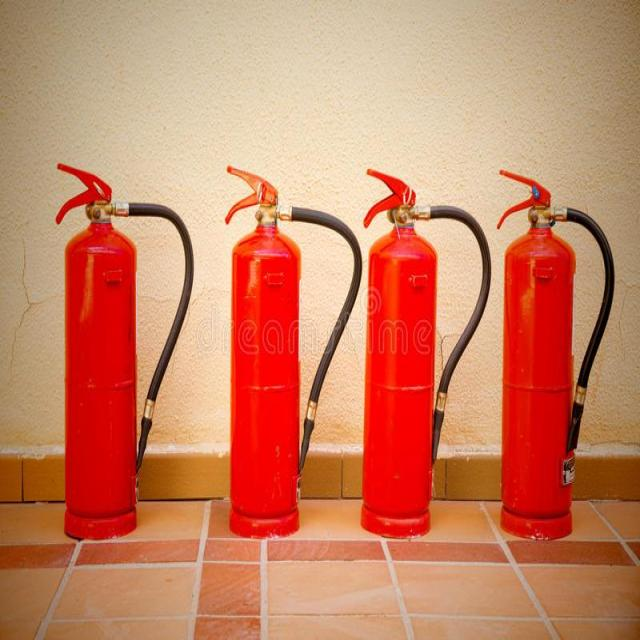fire_extinguisher: (52, 158, 198, 542), (220, 159, 364, 542), (358, 164, 491, 542), (491, 164, 619, 547)
